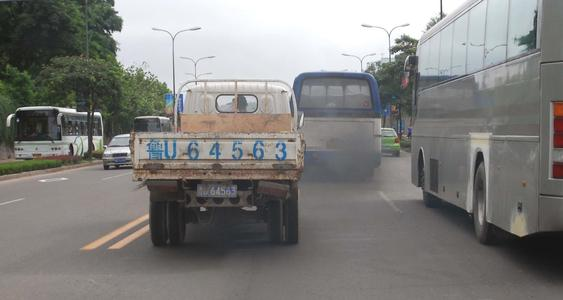smoke: (305, 137, 393, 199)
